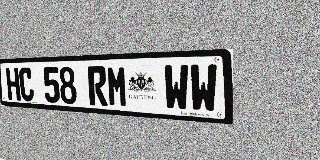5: (43, 67, 60, 103)
8: (59, 67, 77, 104)
C: (18, 67, 34, 101)
H: (6, 68, 21, 101)
M: (106, 65, 128, 107)
R: (87, 66, 108, 106)
W: (190, 64, 218, 113), (163, 64, 189, 111)
